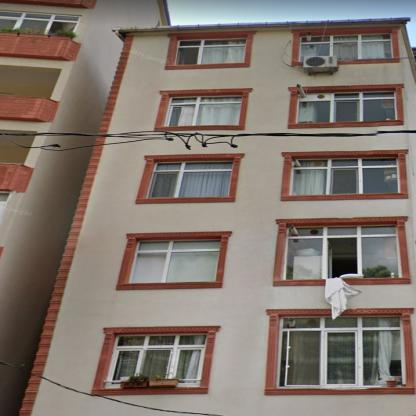window: (279, 316, 399, 387), (282, 226, 400, 279), (110, 334, 206, 380), (290, 158, 397, 194), (130, 240, 219, 282), (296, 91, 396, 123), (149, 162, 233, 197), (300, 34, 391, 61), (165, 96, 242, 126), (174, 38, 247, 64), (0, 11, 80, 32)
